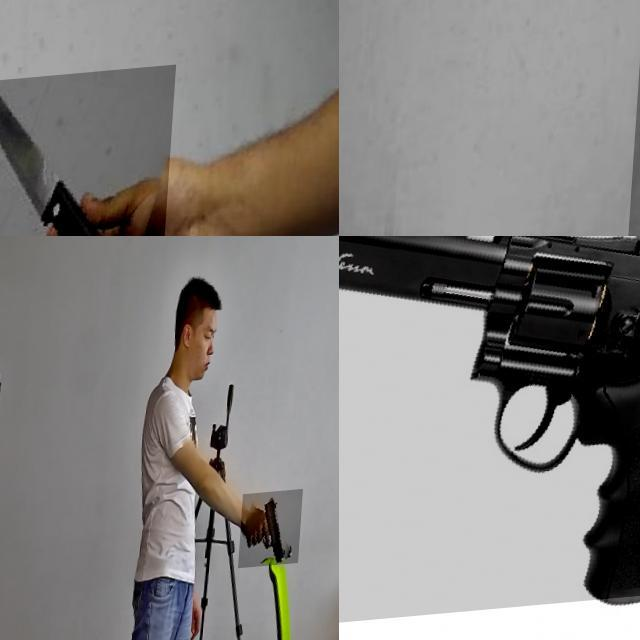-: (0, 72, 179, 236)
gun-knife-thesis - v11 Yolov5 augmented: (339, 236, 640, 640), (244, 496, 307, 574)
